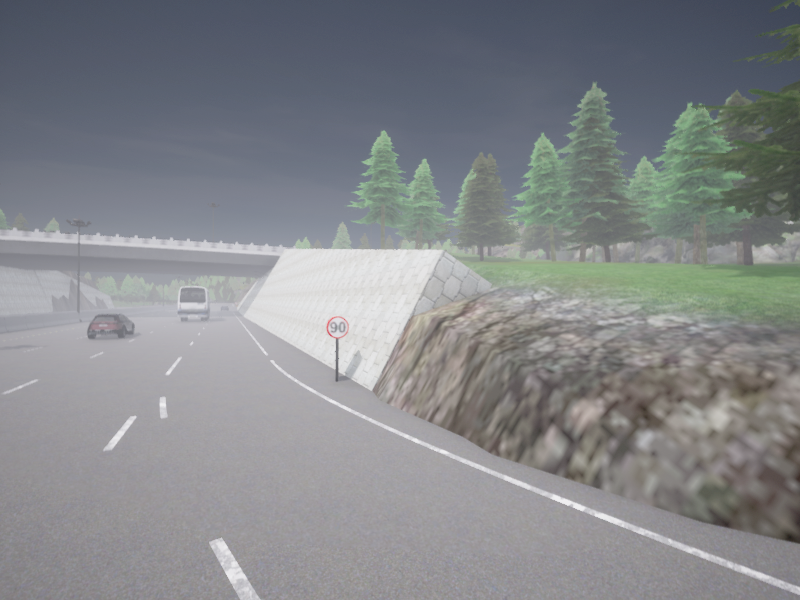vehicle: (87, 313, 134, 338), (177, 287, 211, 320), (221, 305, 228, 310)
